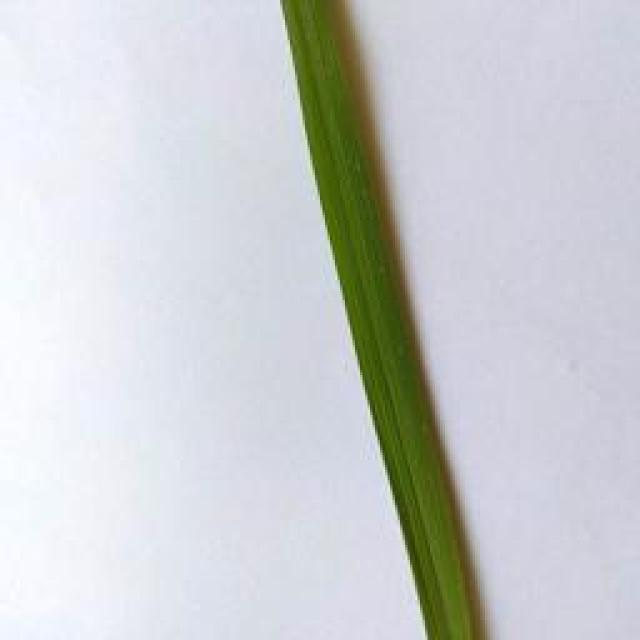Healthy-Plant: (279, 0, 474, 640)
